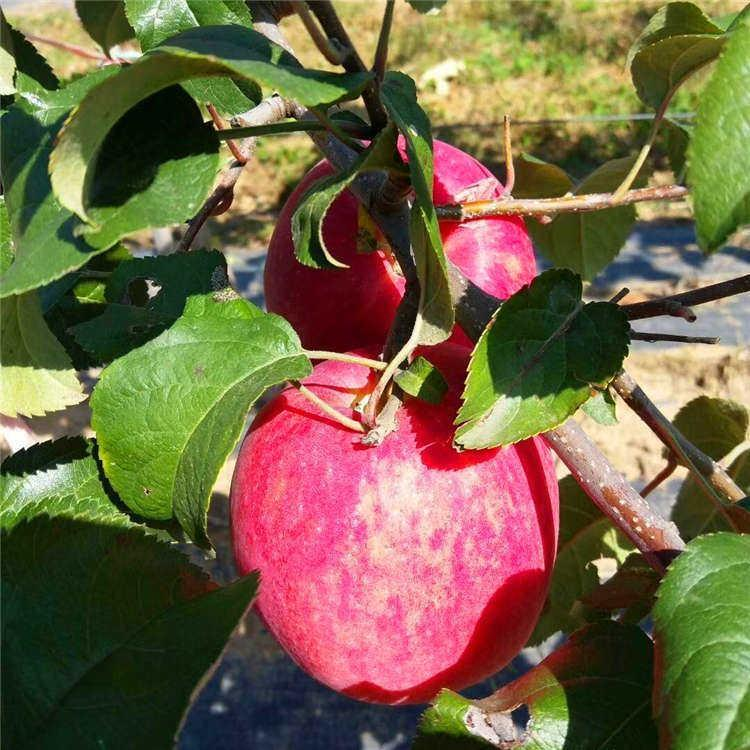apple: (230, 344, 561, 708), (259, 127, 536, 363)
